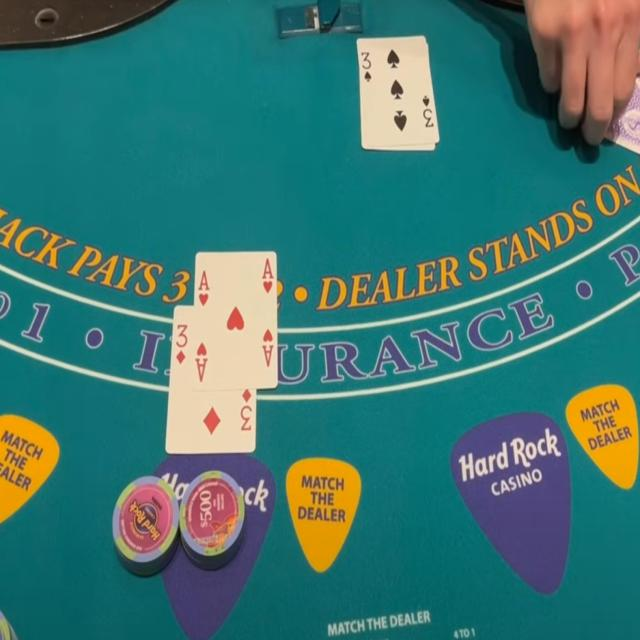3: (175, 320, 190, 350), (359, 49, 374, 70)
A: (196, 265, 212, 294)
